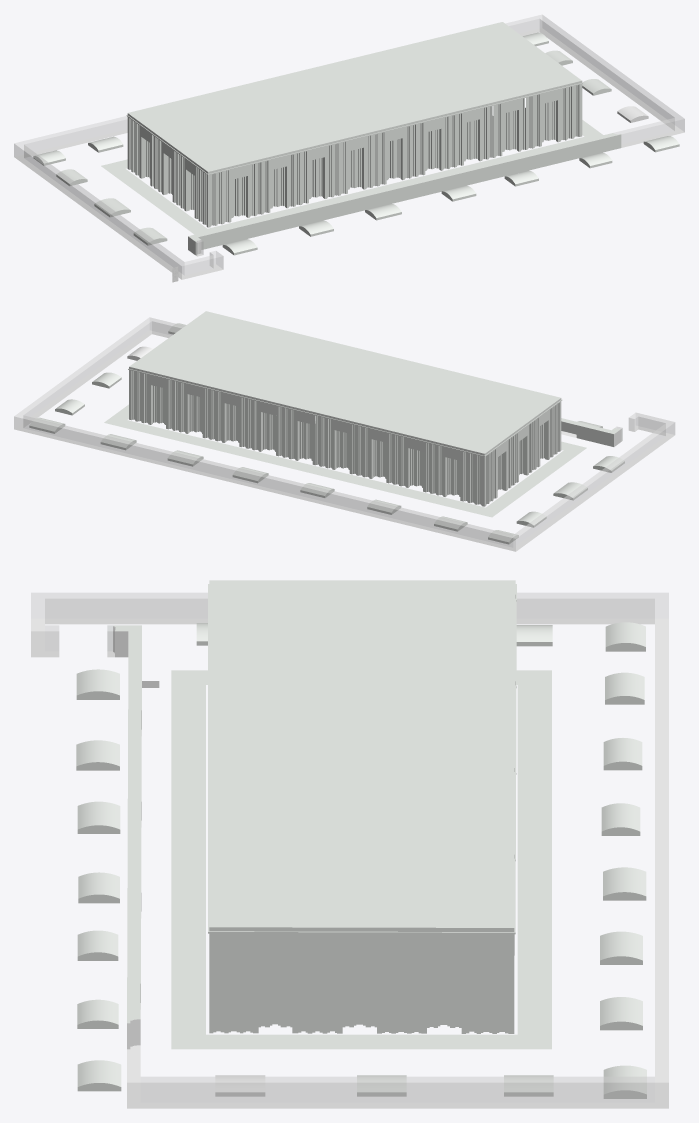
3 views of the same model, one above another, from view 1: azimuth 30°, elevation 25°; view 2: azimuth 150°, elevation 25°; view 3: azimuth 270°, elevation 25° (orthographic). The views are drawn at different scales.
Visible parts, largest first — view 1: Mesh1 Model, Mesh2 Model, Mesh24 Model, Mesh5 Model; view 2: Mesh1 Model, Mesh2 Model, Mesh24 Model, Mesh5 Model, Mesh14 Model, Mesh11 Model, Mesh13 Model, Mesh12 Model; view 3: Mesh1 Model, Mesh2 Model, Mesh24 Model, Mesh11 Model, Mesh14 Model, Mesh13 Model, Mesh12 Model, Mesh3 Model, Mesh21 Model, Mesh22 Model, Mesh23 Model, Mesh20 Model (+10 smaller).
Part boxes in pixels (x1,y1,x2,y2): Mesh1 Model: (126,22,582,227); Mesh2 Model: (14,14,684,279); Mesh24 Model: (101,120,603,234); Mesh5 Model: (94,198,130,217); Mesh1 Model: (128,311,562,506); Mesh2 Model: (14,317,675,551); Mesh24 Model: (104,404,586,517); Mesh5 Model: (553,482,587,500); Mesh14 Model: (29,417,65,433); Mesh11 Model: (232,467,268,483); Mesh13 Model: (100,434,136,450); Mesh12 Model: (167,450,203,466); Mesh1 Model: (208,580,516,1033); Mesh2 Model: (31,592,668,1108); Mesh24 Model: (171,670,551,1049); Mesh11 Model: (603,867,646,900); Mesh14 Model: (603,1065,646,1098); Mesh13 Model: (600,997,642,1030); Mesh12 Model: (600,931,642,964); Mesh3 Model: (77,1060,121,1091); Mesh21 Model: (77,801,120,833); Mesh22 Model: (76,740,119,770); Mesh23 Model: (76,669,119,699); Mesh20 Model: (78,872,119,903).
Size of the model in its own units: 61.79 by 6.12 by 33.45.
Materials: 6 (2 with a texture image).
